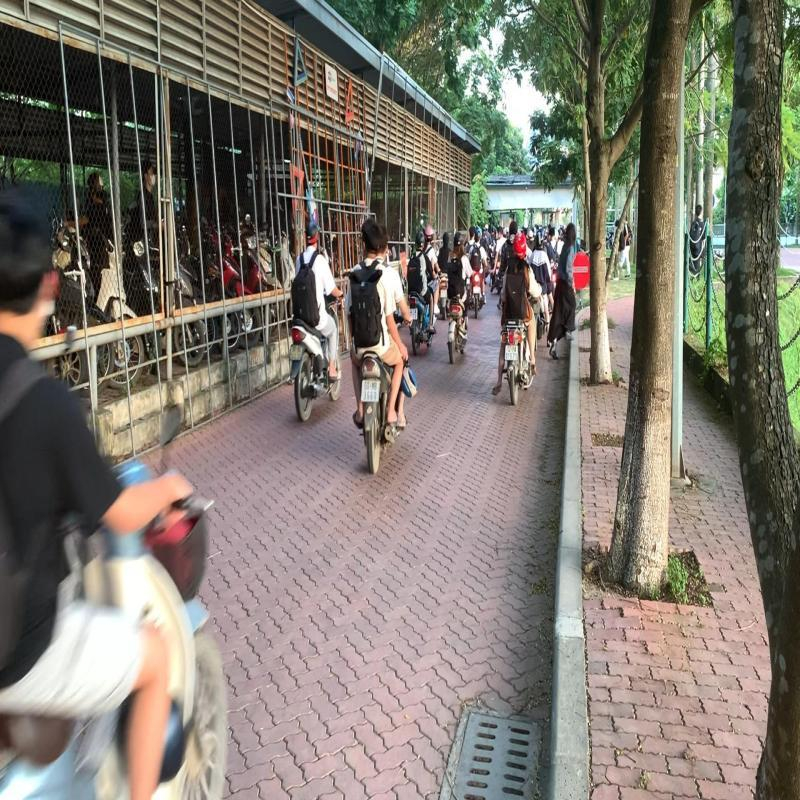licenseplate: (362, 380, 380, 401)
motorcyclist: (340, 216, 419, 479)
nohelmet: (361, 218, 379, 252), (376, 222, 388, 256)
